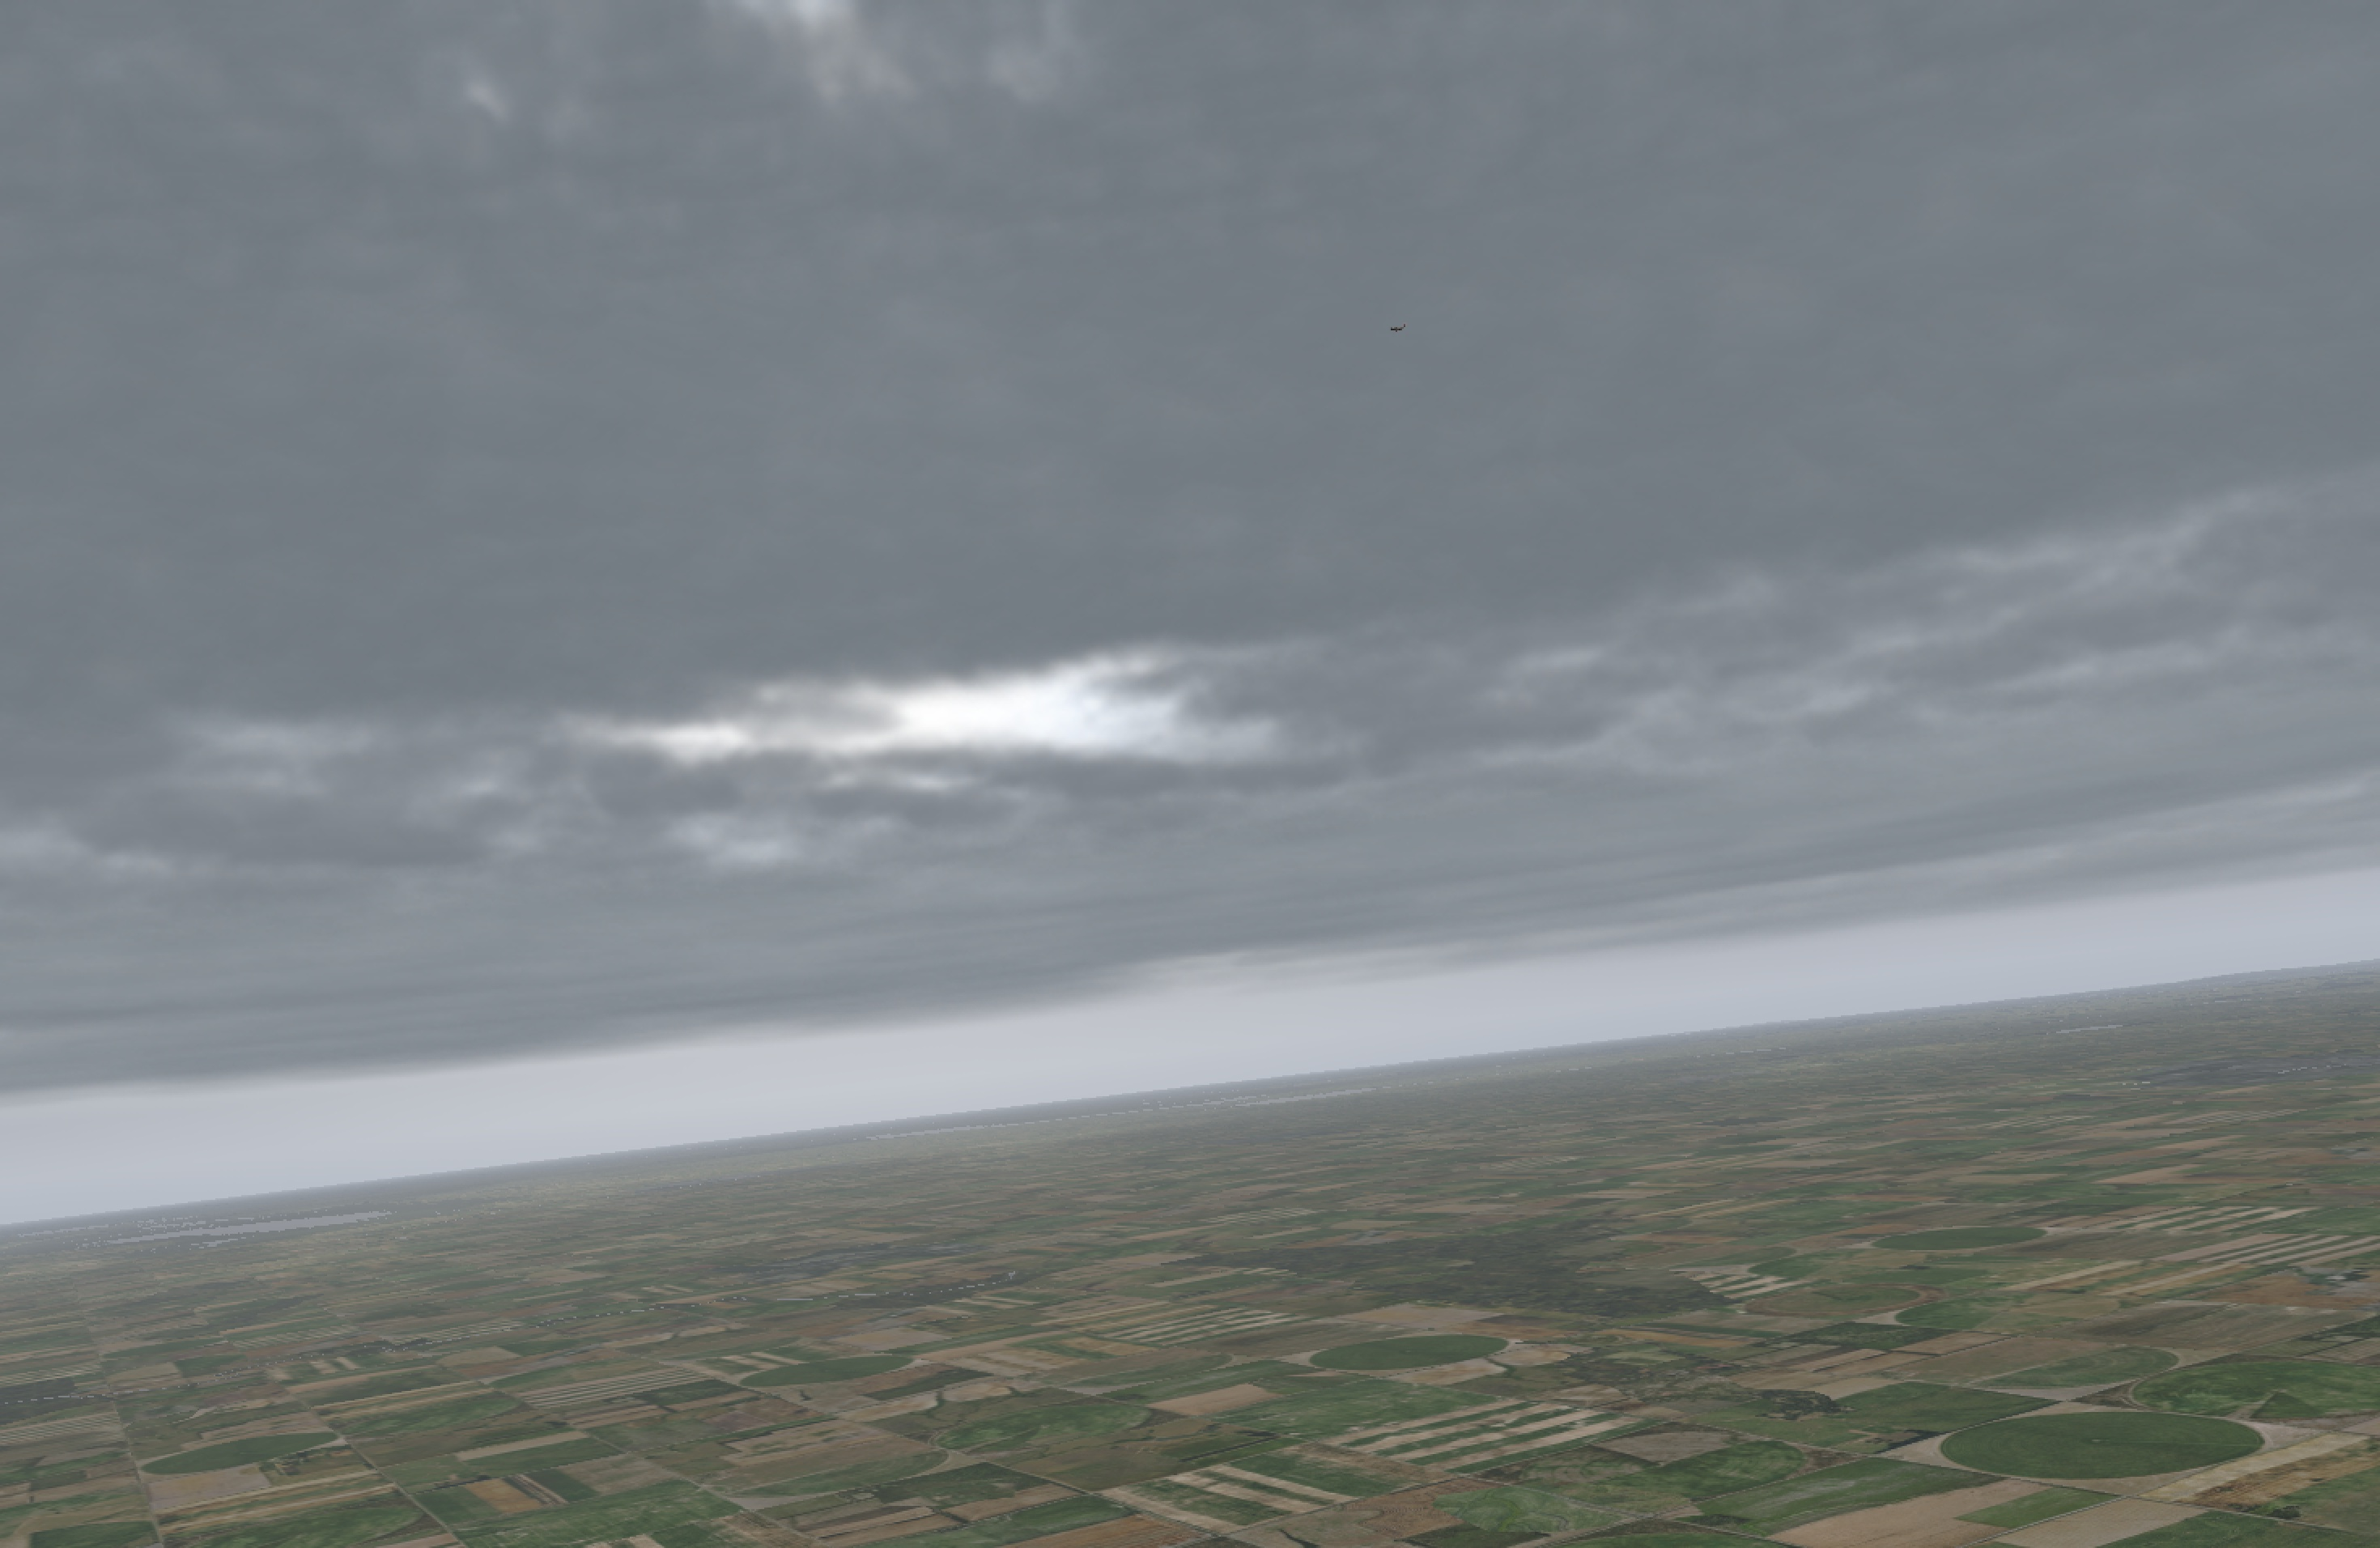aircraft: (1383, 325, 1410, 335)
